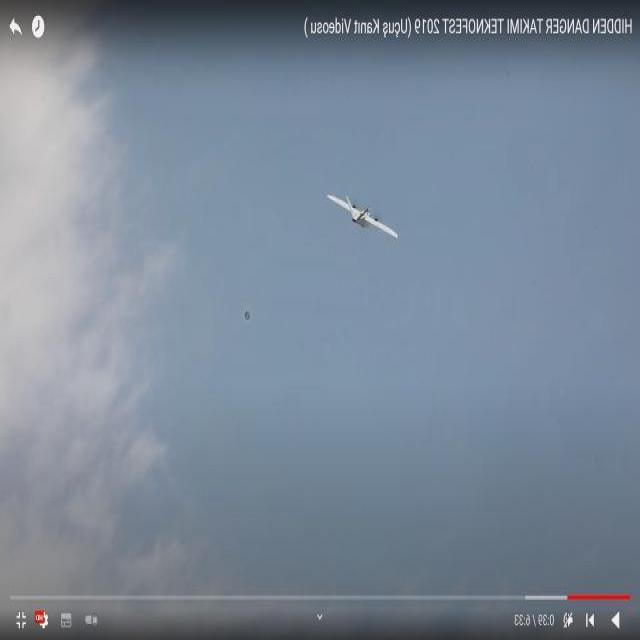UAV: (323, 190, 401, 244)
